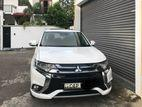car: (24, 25, 116, 102)
